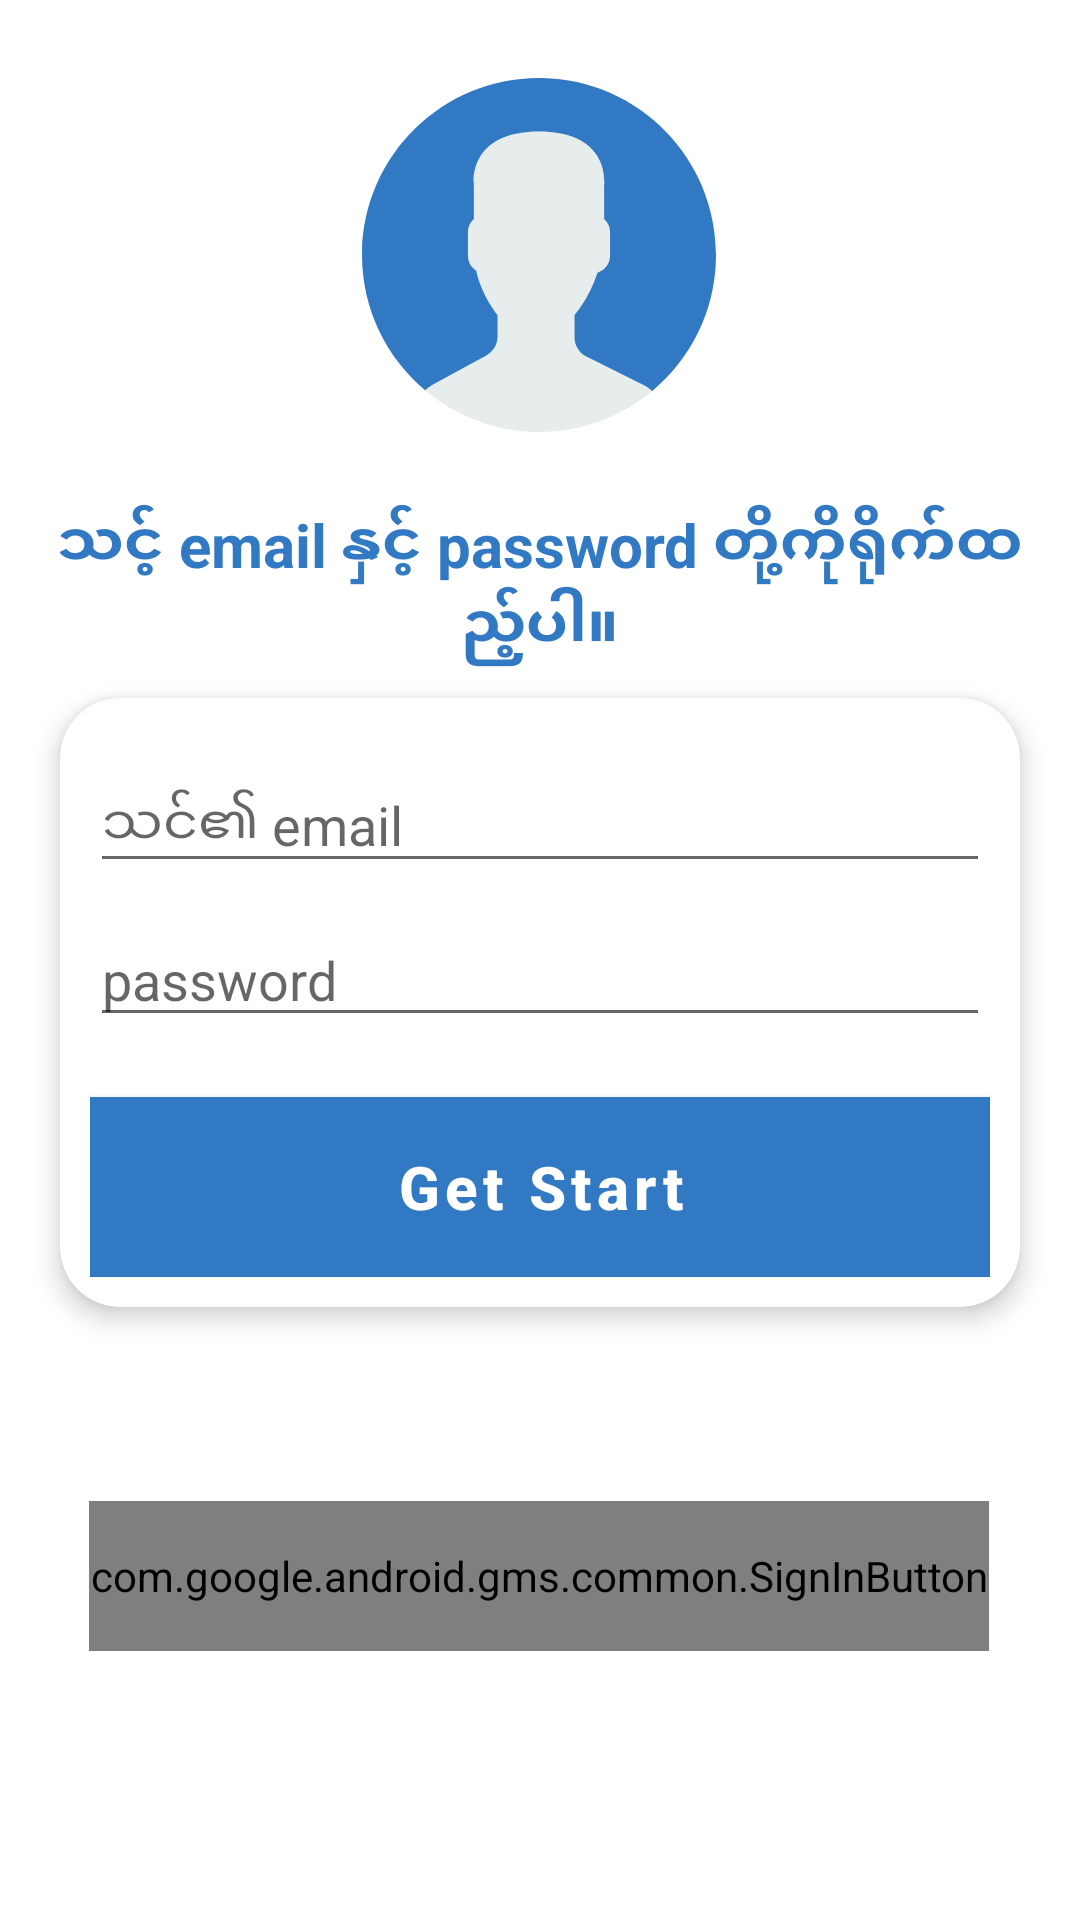

Named icons in this screenshot (1080*1920) and their centers, point (x, y):
user: point (539, 234)
